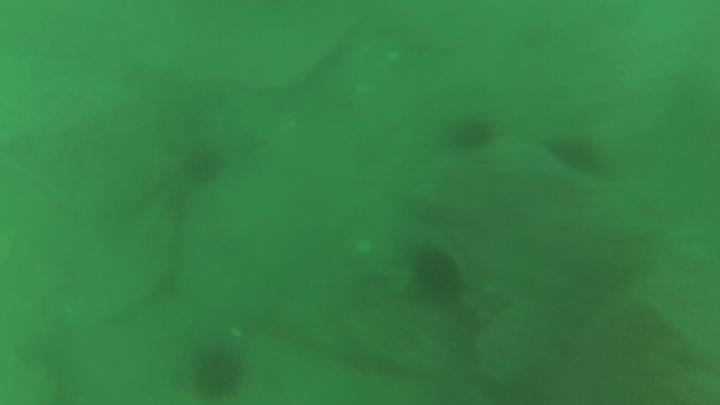echinus: (187, 342, 247, 402), (410, 244, 464, 301), (548, 133, 609, 177), (180, 143, 227, 187), (448, 115, 497, 154)
